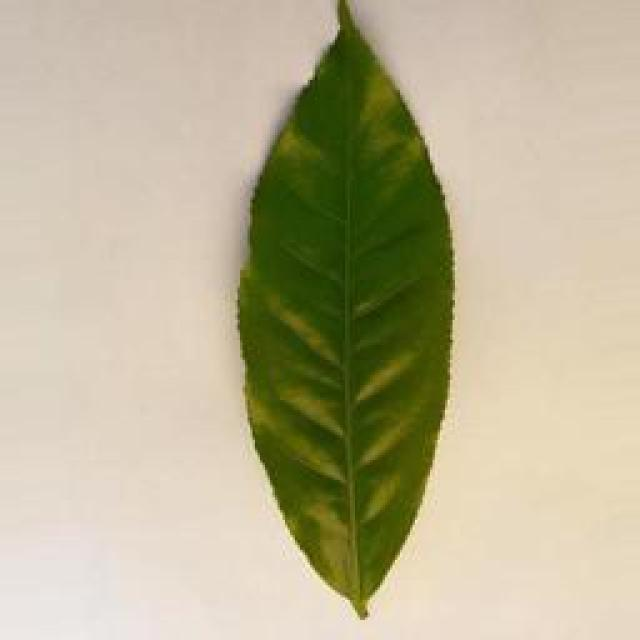Healthy: (208, 1, 478, 626)
